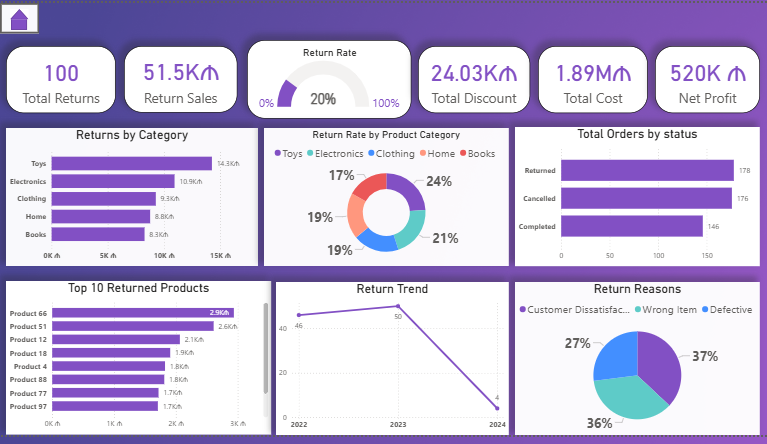

The page's visual inventory and layout, read from the dashboard file:
{"tool":"powerbi","page":{"name":" Returns & Performance","canvas":[1280,720],"ordinal":3},"visuals":[{"type":"actionButton","box":[0,0,65.4,50.8],"z":0,"group":"g1"},{"type":"card","fields":{"Values":["Count(returns.return_id)"]},"box":[10,71.7,183.3,111.7],"z":0},{"type":"shape","box":[19.1,25.4,26.8,20],"z":1000,"group":"g2"},{"type":"barChart","title":"Returns by Category","fields":{"Category":["products.category"],"Y":["returns.Return Value"]},"box":[10,208.3,420,230],"z":1000},{"type":"shape","box":[16.9,9.7,31.3,17.4],"z":2000,"group":"g2"},{"type":"gauge","fields":{"Y":["returns.Return Rate"]},"box":[411.4,61.4,274.3,131.4],"z":2000},{"type":"barChart","title":"Top 10 Returned Products ","fields":{"Y":["returns.Return Value"],"Category":["products.product_name"]},"box":[10.2,463.9,442,256.1],"z":3000},{"type":"card","fields":{"Values":["returns.Return Value"]},"box":[207.1,71.4,188.6,111.4],"z":4000},{"type":"pieChart","title":"Return Reasons","fields":{"Category":["returns.reason"],"Y":["CountNonNull(returns.return_id)"]},"box":[857.8,464.4,407.8,255.6],"z":5000},{"type":"lineChart","title":"Return Trend","fields":{"Category":["returns.return_date.Variation.Date Hierarchy.Year","returns.return_date.Variation.Date Hierarchy.Quarter","returns.return_date.Variation.Date Hierarchy.Month","returns.return_date.Variation.Date Hierarchy.Day"],"Y":["CountNonNull(returns.return_id)"]},"box":[460,464.4,387.8,255.6],"z":6000},{"type":"barChart","fields":{"Category":["orders.status"],"Y":["orders.Total Orders"]},"box":[857.8,206.7,407.8,232.2],"z":7000},{"type":"donutChart","title":"Return Rate by Product Category","fields":{"Y":["CountNonNull(returns.return_date)"],"Category":["products.category"]},"box":[440,208.9,407.8,230],"z":8000},{"type":"card","fields":{"Values":["order_details.Total Discount"]},"box":[696.7,71.7,186.7,111.7],"z":10000},{"type":"card","fields":{"Values":["order_details.Total Cost"]},"box":[896.7,71.7,183.3,111.7],"z":11000},{"type":"card","fields":{"Values":["order_details.Net Profit"]},"box":[1091.7,71.7,175,111.7],"z":12000},{"type":"group","id":"g1","title":"Group 1","box":[0,0,65.4,50.8],"z":12001},{"type":"group","id":"g2","title":"Group 2","box":[16.9,9.7,31.3,35.6],"z":12002,"group":"g1"}]}

Visuals, with their boxes in screenshot pixels (x1, y1, x2, y2), scaled from the page's 1280x720 canvas onto the 767x444 screenshot:
actionButton: (0,0,39,31)
card - Count(returns.return_id): (6,44,116,113)
shape: (11,16,28,28)
"Returns by Category" barChart: (6,128,258,270)
shape: (10,6,29,17)
gauge - returns.Return Rate: (247,38,411,119)
"Top 10 Returned Products " barChart: (6,286,271,443)
card - returns.Return Value: (124,44,237,113)
"Return Reasons" pieChart: (514,286,758,443)
"Return Trend" lineChart: (276,286,508,443)
barChart - orders.status x orders.Total Orders: (514,127,758,271)
"Return Rate by Product Category" donutChart: (264,129,508,271)
card - order_details.Total Discount: (417,44,529,113)
card - order_details.Total Cost: (537,44,647,113)
card - order_details.Net Profit: (654,44,759,113)
"Group 1" group: (0,0,39,31)
"Group 2" group: (10,6,29,28)
